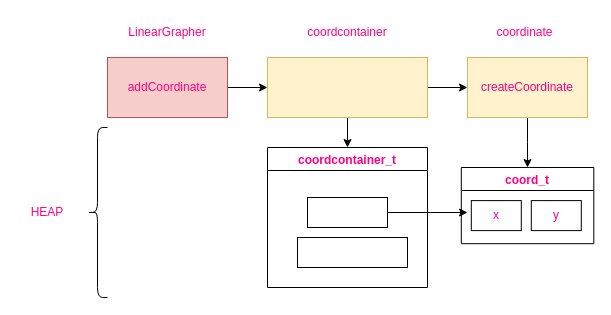
Image size: 611x315. Some labels were removed from this diagram. Each missing label, with the centre of its shape:
"coord_t* data" belongs at point 347,212.
"coordcontainer_t* next" belongs at point 352,252.
"createCoordinateContainer" belongs at point 347,87.
